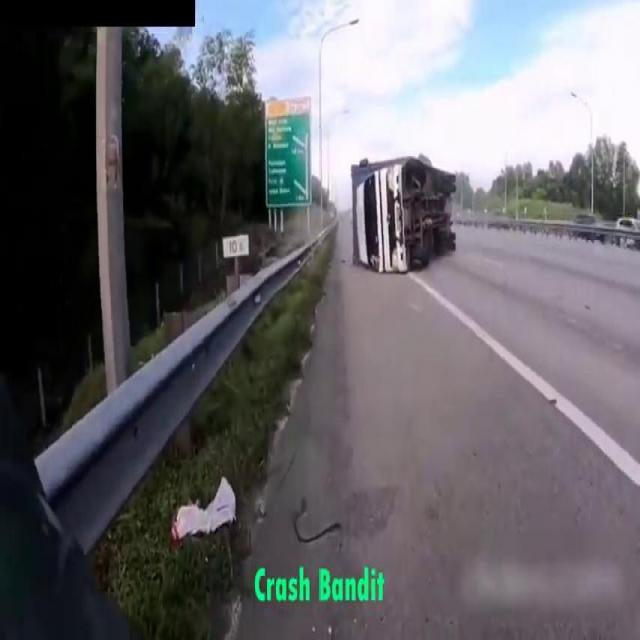accident: (346, 140, 463, 280)
